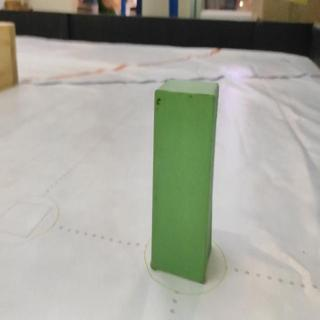greenbox: (149, 74, 220, 285)
